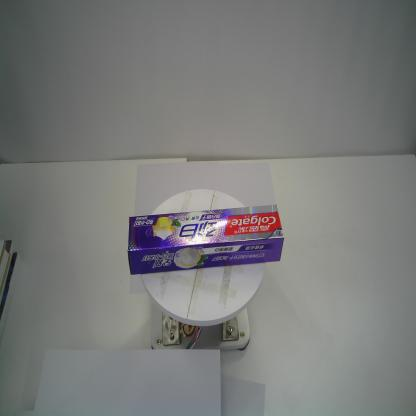Personal Hygiene: (126, 203, 286, 278)
